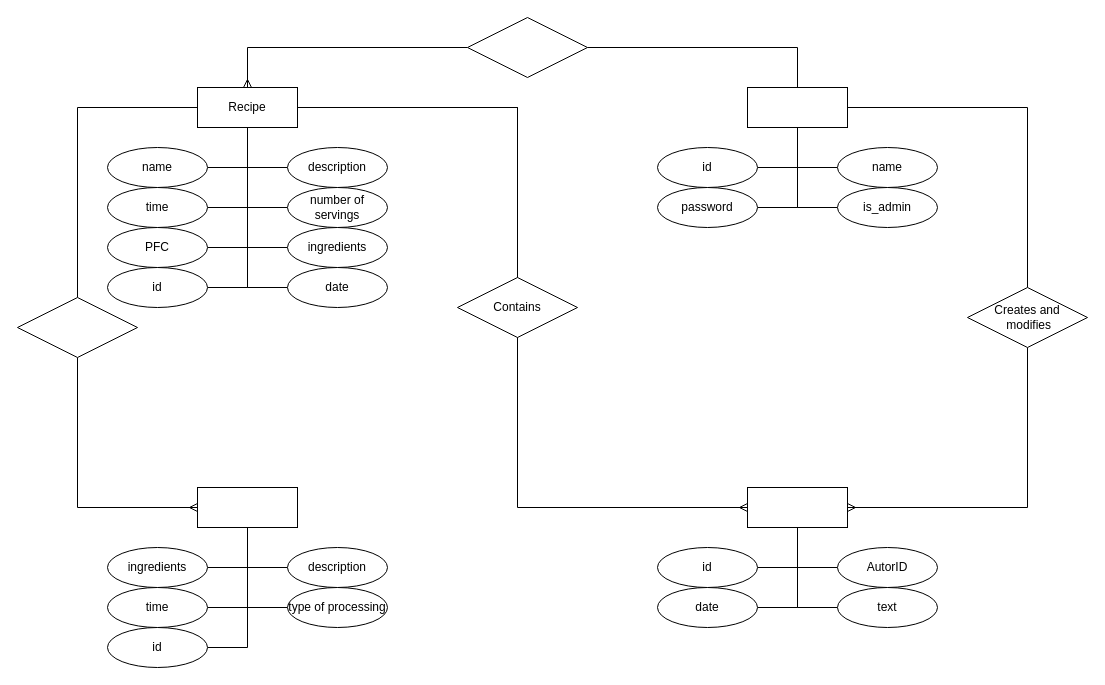
Some shapes in this 1105 by 685 pixel diagram are drawn without their labels. Each missing label, with the centre of its shape:
"consists of" belongs at [77,327].
"Creates, modifies, saves" belongs at [527,47].
"Stage" belongs at [247,507].
"User" belongs at [797,107].
"Сomment" belongs at [797,507].
